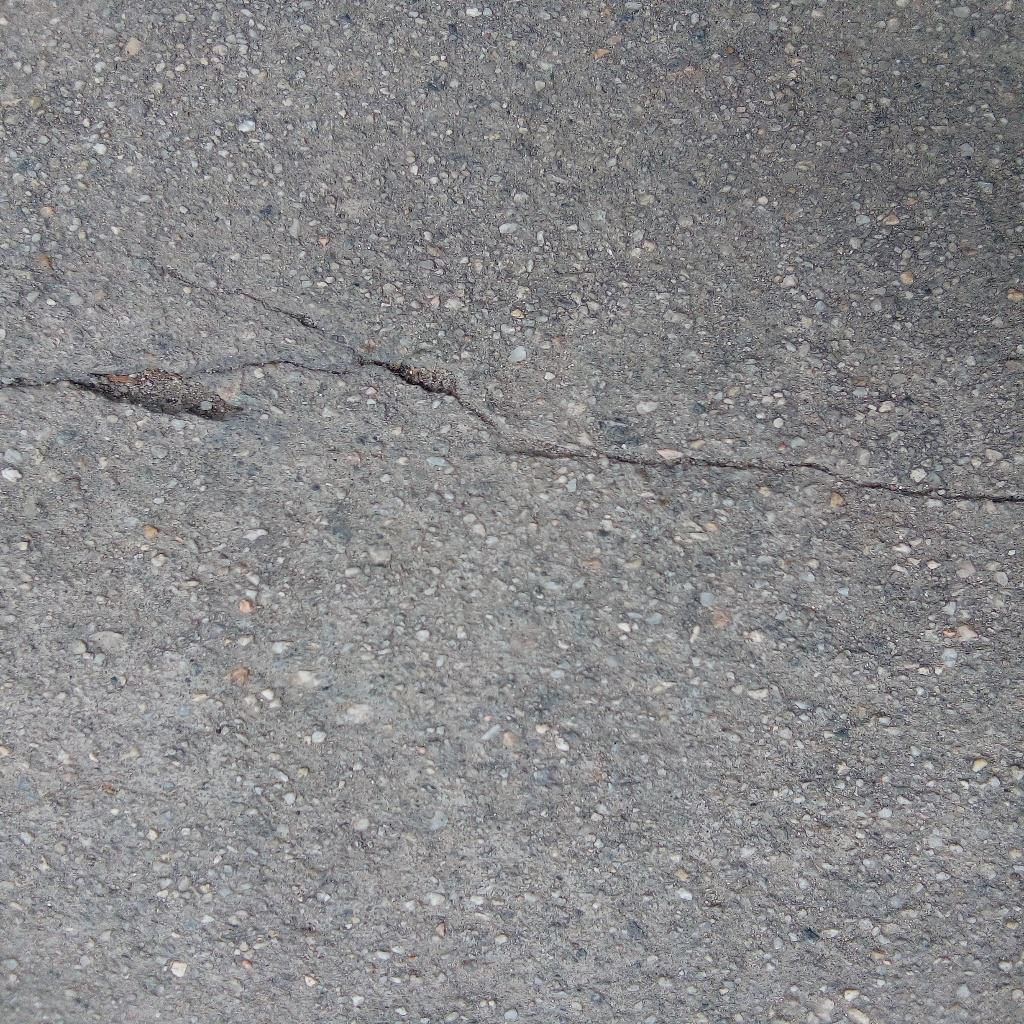Crack: (1, 355, 1024, 507)
